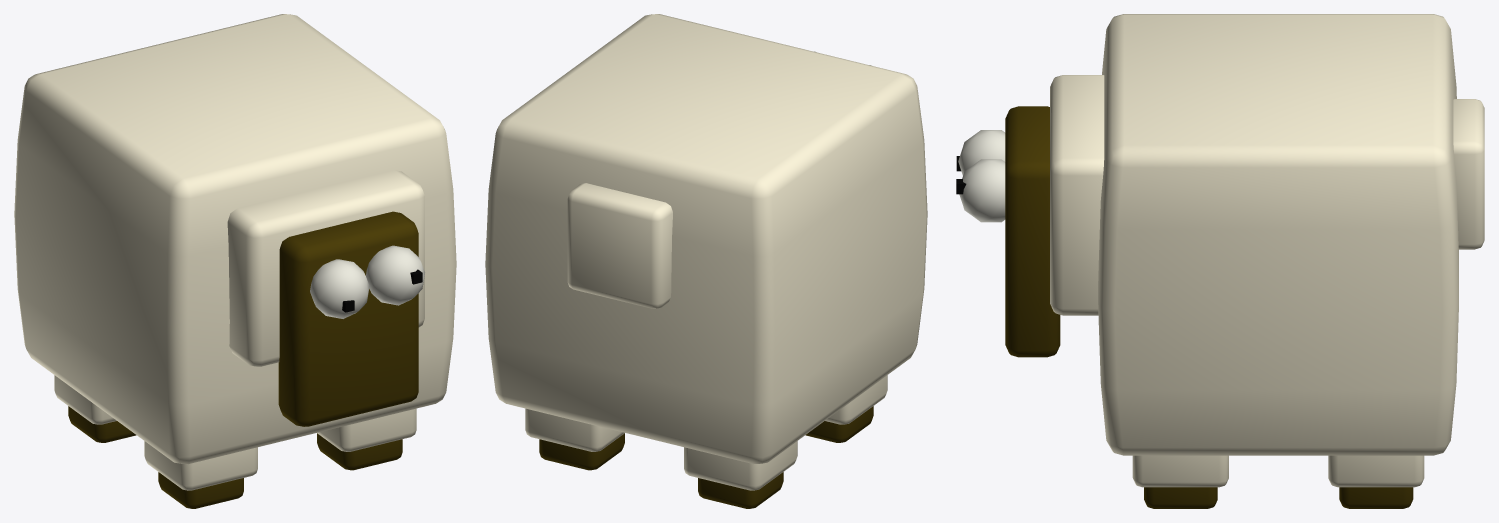
Rendered from SheepScene.glb.
3 views of the same model, side by side, from view 1: azimuth 30°, elevation 25°; view 2: azimuth 150°, elevation 25°; view 3: azimuth 270°, elevation 25° (orthographic). The views are drawn at different scales.
Visible parts, largest first — view 1: Cube; view 2: Cube; view 3: Cube.
Boxes of the visible parts, left/top/right/bottom form: Cube: left=14, top=14, right=456, bottom=508; Cube: left=485, top=14, right=927, bottom=508; Cube: left=956, top=14, right=1484, bottom=508.
Bounding box in the file's own units: 2.17 × 2.49 × 3.18.
1 material, 1 textured.
